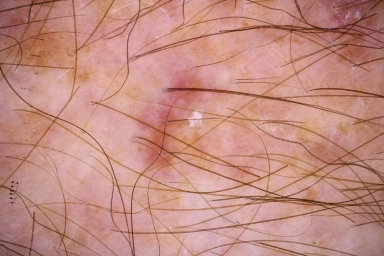melanoma: (141, 76, 204, 172)
